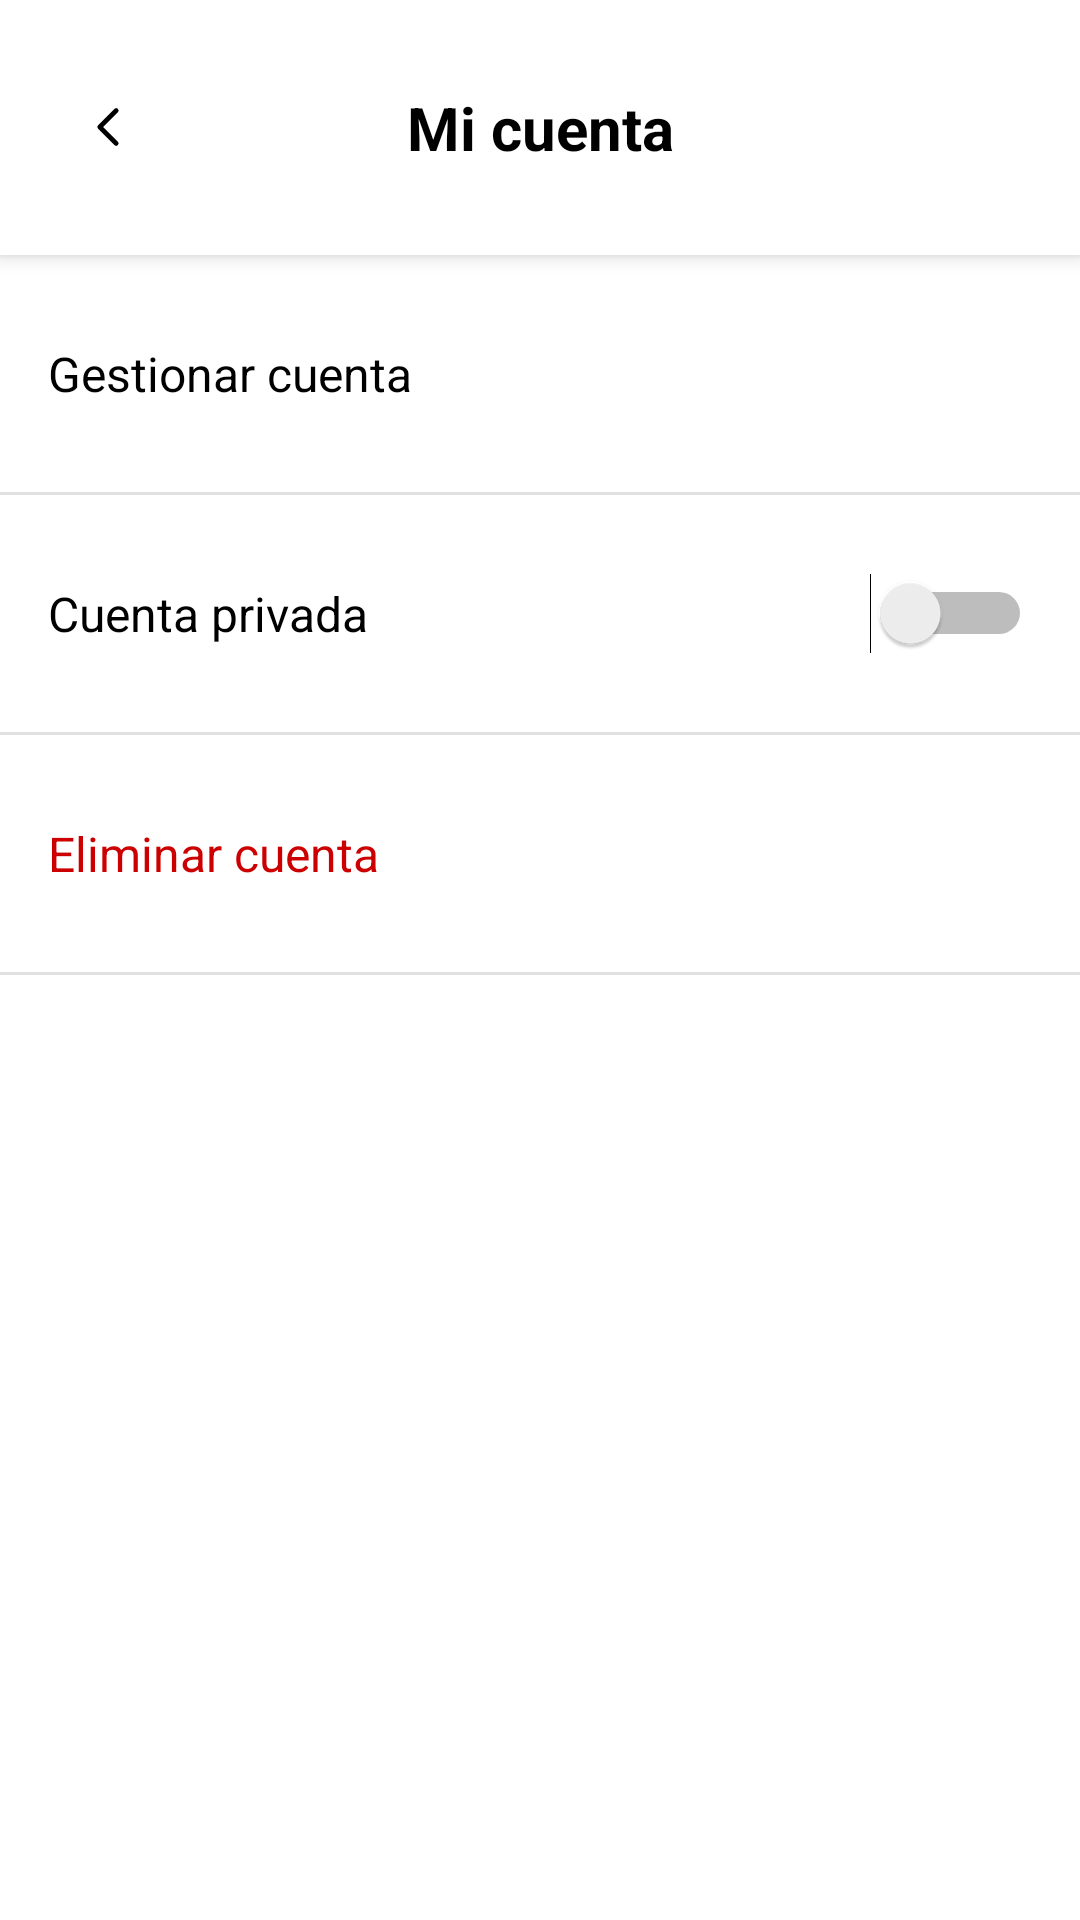

Icons on this 1080w x 1920h Android screen, each with the point to tap as point (x, y):
Atrás: point (108, 127)
